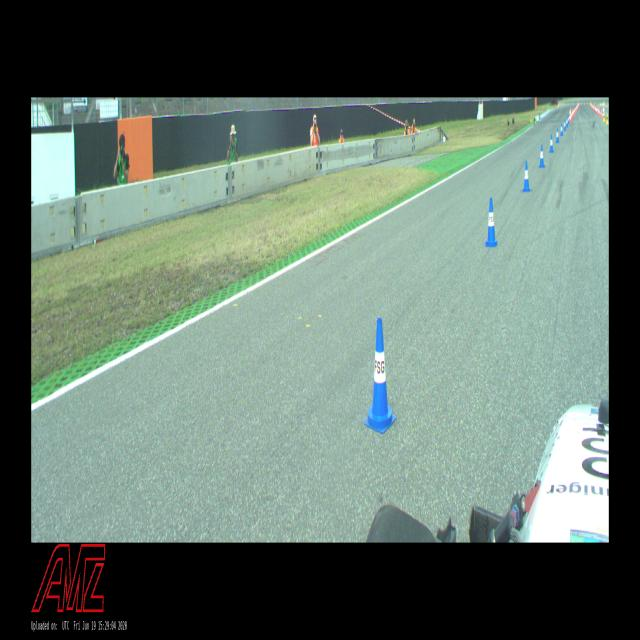blue_cone: (364, 318, 396, 433), (485, 198, 498, 246), (523, 162, 530, 192), (539, 144, 545, 168), (549, 134, 554, 152), (556, 128, 560, 143), (560, 123, 563, 136), (563, 120, 566, 130), (568, 115, 570, 124), (566, 118, 568, 126)
yellow_cone: (606, 114, 608, 124), (603, 112, 605, 121)
